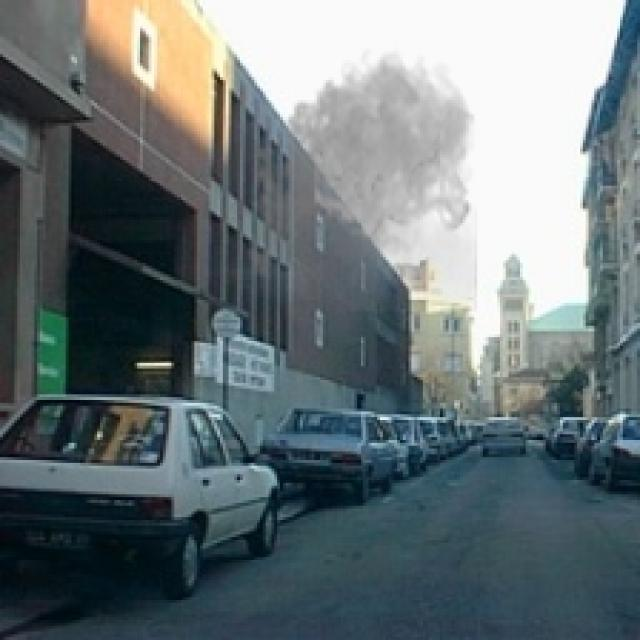Smoke: (240, 40, 477, 312)
